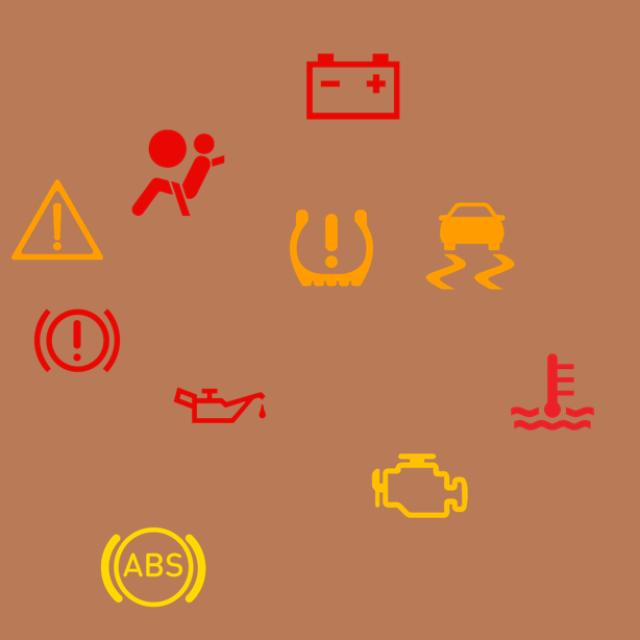Anti Lock Braking System: (96, 510, 210, 624)
Braking System Issue: (20, 284, 134, 398)
Charging System Issue: (296, 29, 411, 144)
Check Engine: (363, 428, 477, 543)
Electronic Stability Problem -ESP-: (413, 189, 527, 303)
Engine Overheating Warning Light: (495, 335, 610, 449)
Low Engine Oil Warning Light: (163, 348, 277, 463)
Low Tire Pressure Warning Light: (274, 191, 389, 305)
Master warning light: (0, 163, 115, 277)
SRS-Airbag: (121, 116, 235, 230)
